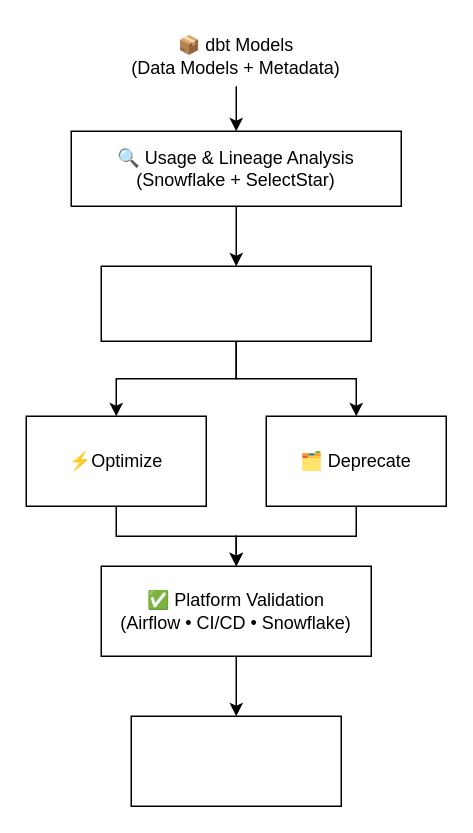
Image size: 473x833. Some labels were removed from this diagram. The box of each missing label's shape, as (x1, y1, x2, y2) in pixels:
🎯 Priority Classification (P0 • P1 • P2 • P3): (100, 265, 371, 341)
🚀 Optimised Analytics Platform: (130, 715, 341, 806)
